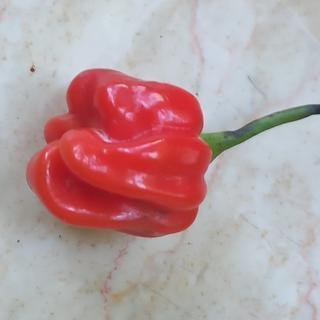Grade-B: (25, 63, 212, 240)
